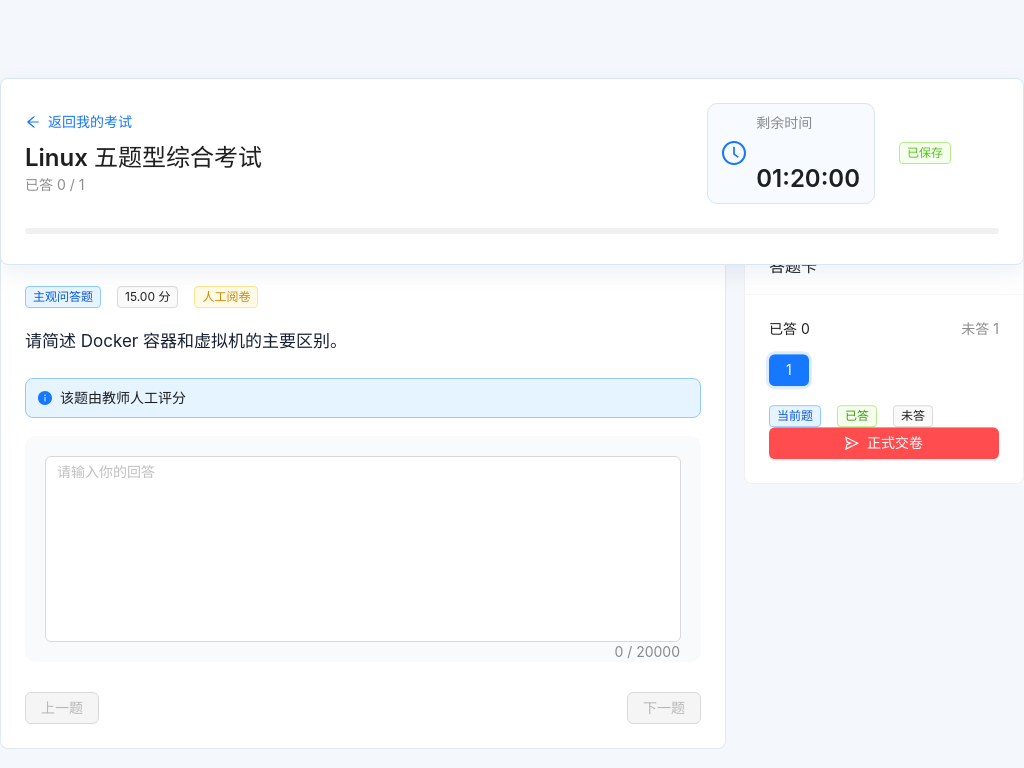
it: save ordering, failure and deadline locking › flushes the latest debounced text before formal submission
This screenshot has width=1024, height=768.
Type "最后一个字" into the text box named "主观问答题答案" at (363, 549), box [46,457,680,641]
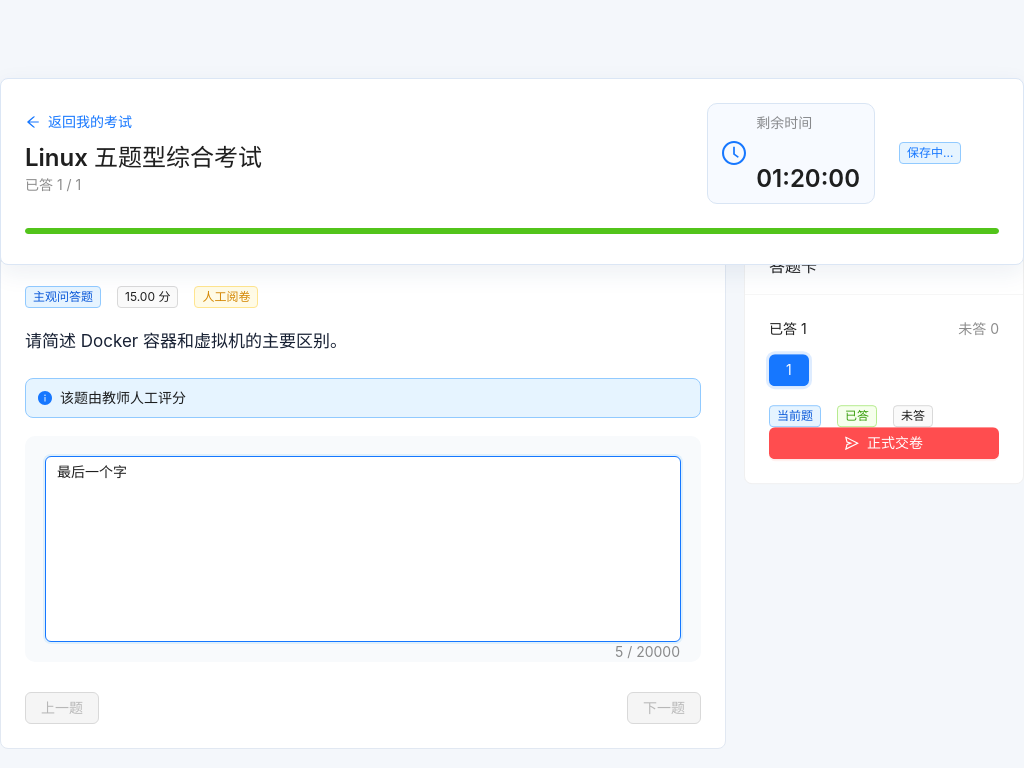
Click the button "正式交卷" at (884, 443), box [769,427,999,459]
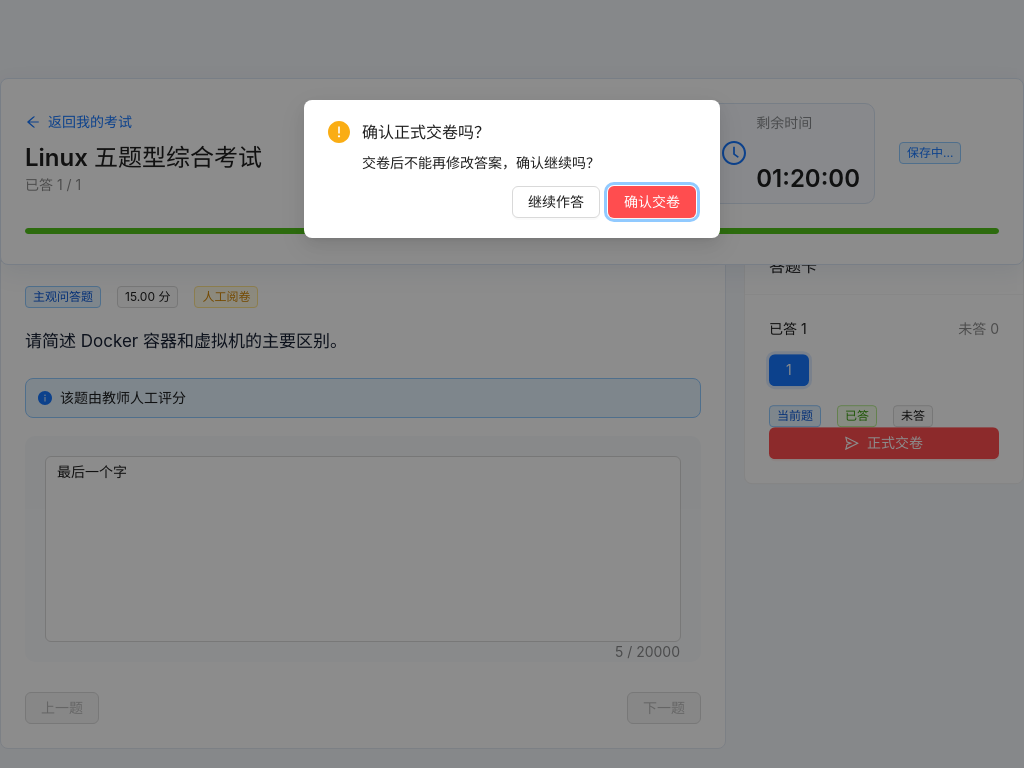
Click the button "确认交卷" at (652, 202), box [608,186,696,218]
(page scrolled)
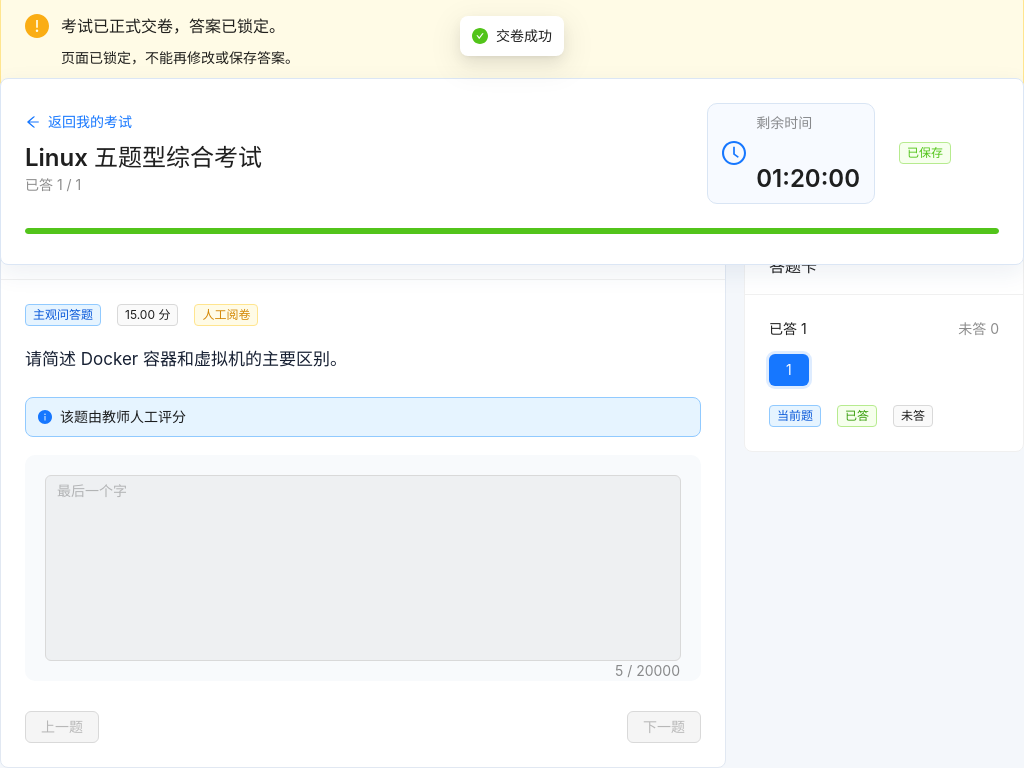
Expected: the text "已交卷，等待教师人工阅卷" is shown, [61,131,253,151]
Expected: the text box named "主观问答题答案" is disabled, [46,476,680,660]
